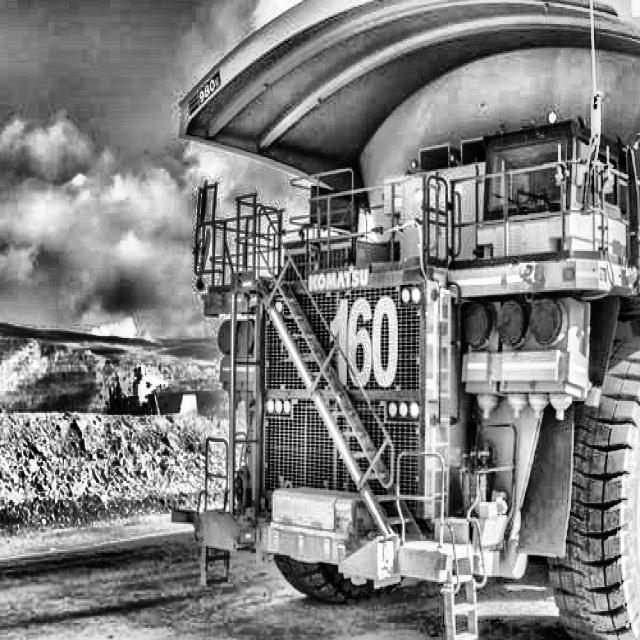dump_truck: (94, 0, 640, 640)
